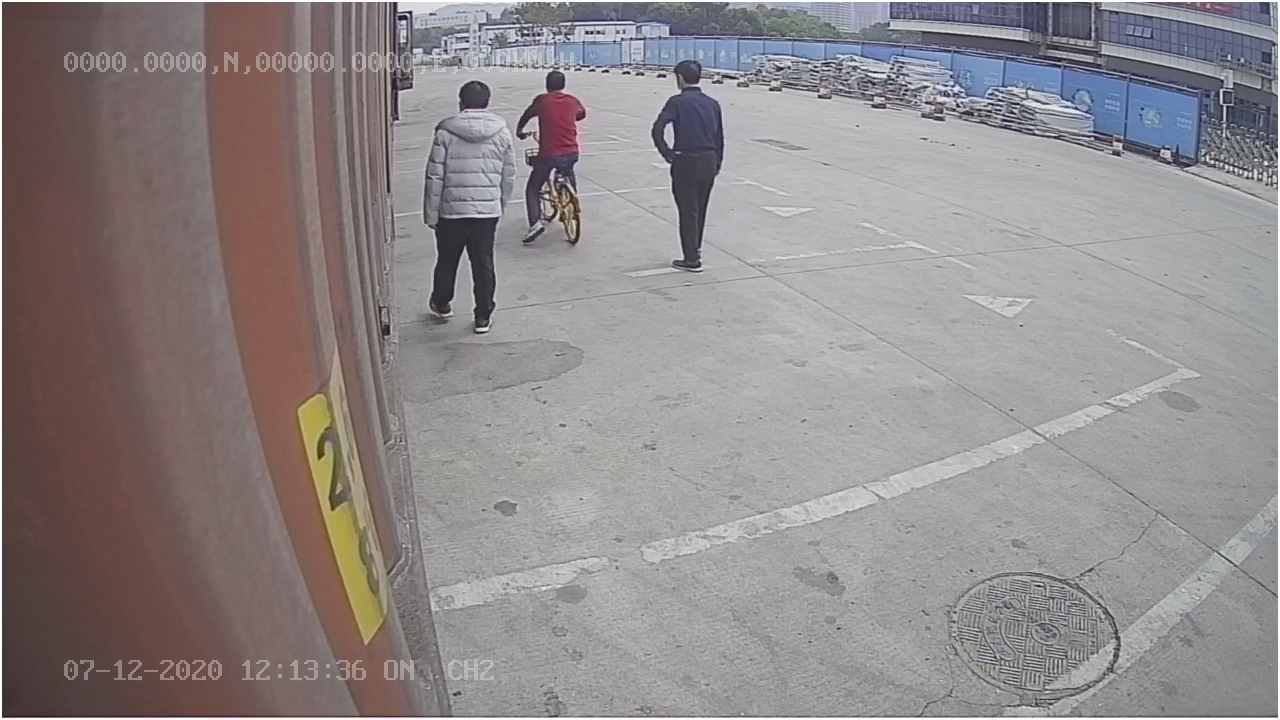person: (423, 81, 515, 332), (651, 51, 728, 281)
